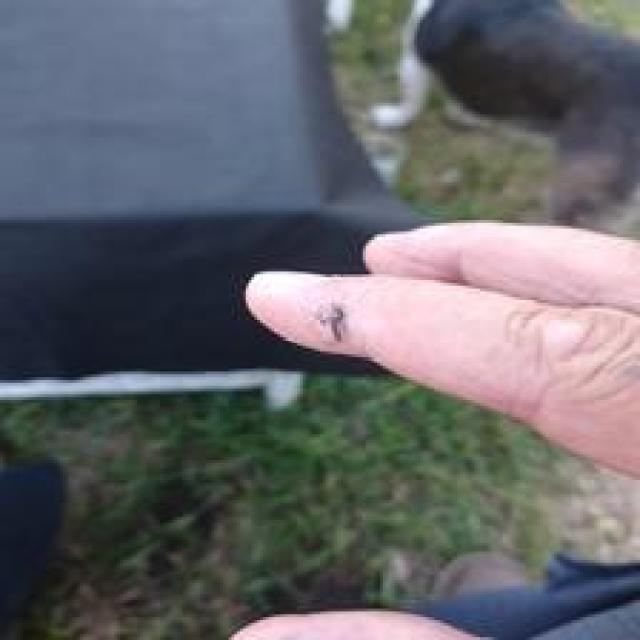Aedes albopictus: (368, 0, 640, 237)
